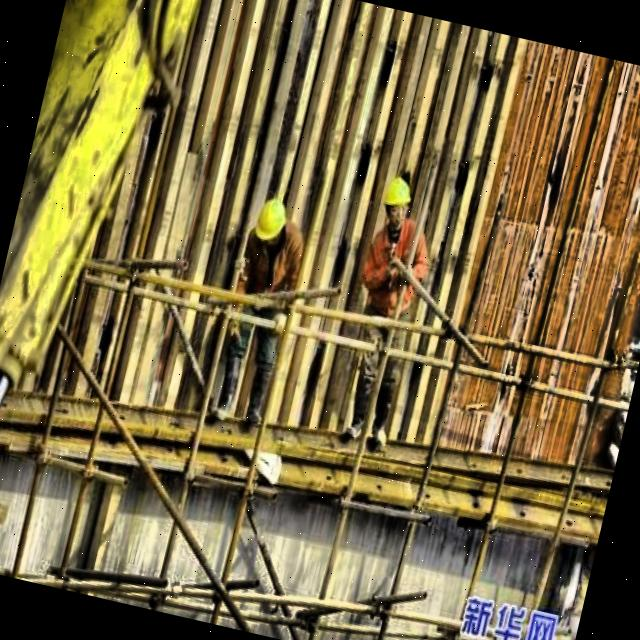helmet: (245, 188, 295, 260), (374, 170, 416, 232)
